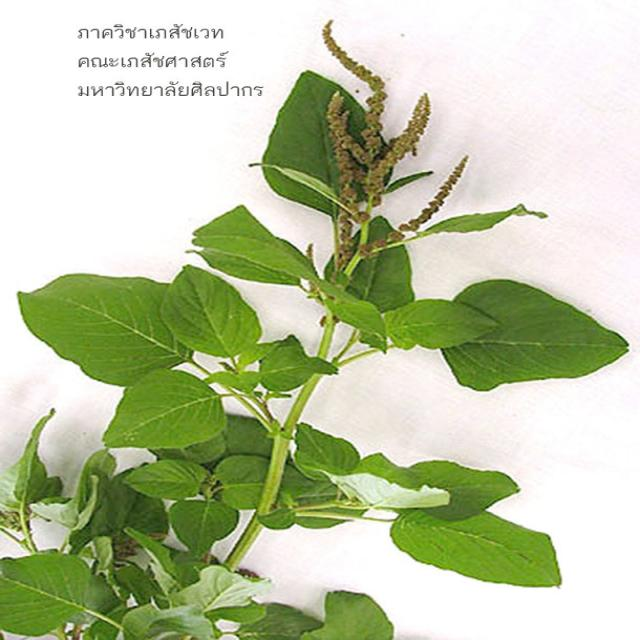Medicinal-Arive Dantu: (21, 254, 634, 602), (259, 24, 586, 228)
